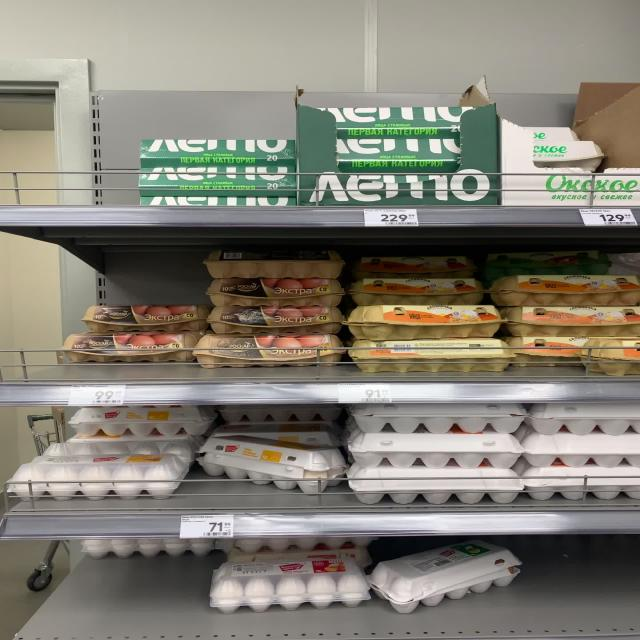egg box: (368, 541, 522, 615), (207, 557, 369, 612), (197, 435, 350, 493), (7, 454, 189, 502), (349, 338, 514, 372), (195, 334, 342, 368), (314, 108, 474, 138), (138, 137, 298, 167), (139, 166, 297, 196), (348, 306, 503, 336), (59, 332, 199, 363), (338, 137, 462, 172), (69, 406, 217, 435), (208, 304, 344, 335), (490, 277, 638, 305), (351, 277, 486, 307), (508, 307, 639, 337), (202, 250, 342, 278), (207, 278, 343, 306), (81, 303, 207, 333), (357, 256, 471, 277)
